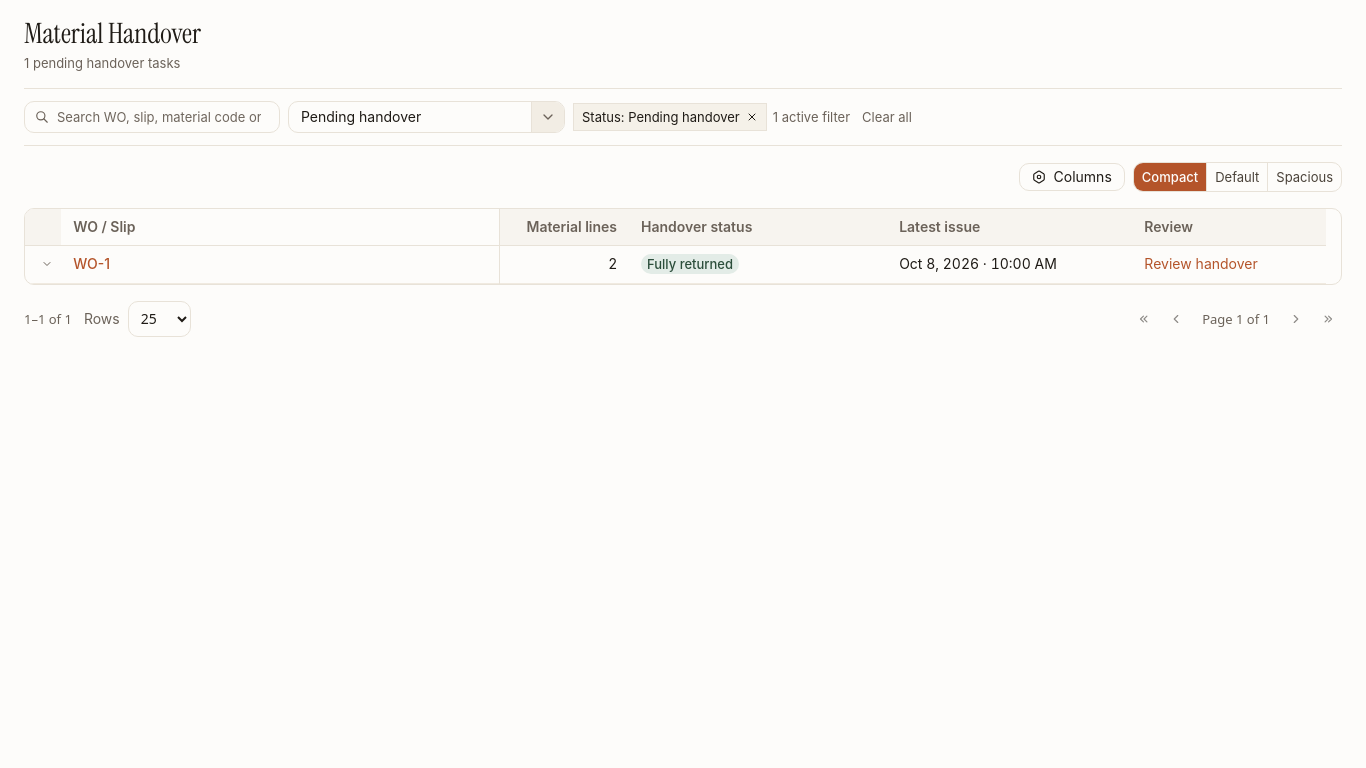
it: fully returned material remains history without claiming physical handover
This screenshot has width=1366, height=768.
Expected: the text "Fully returned" is shown, [641,254,739,274]
Click the text "WO-1" at (92, 264), box [73,255,110,272]
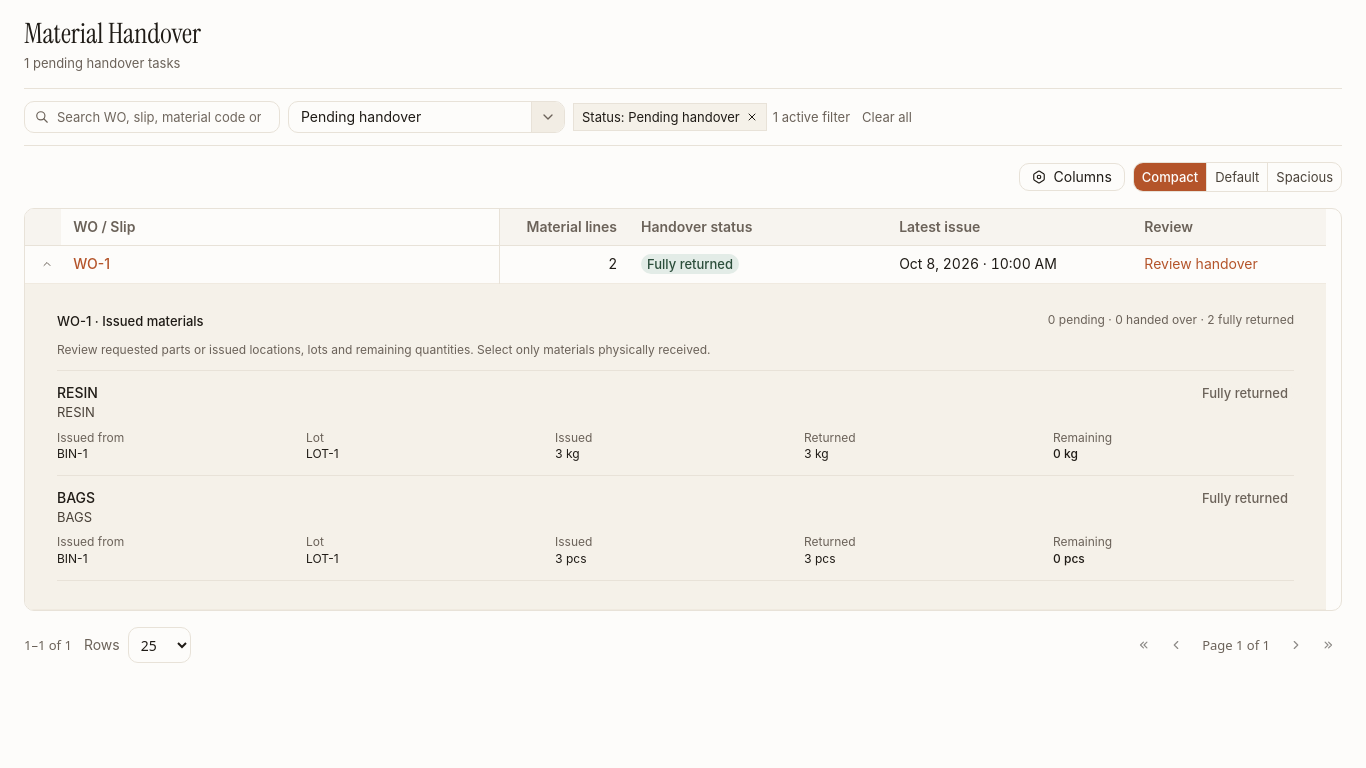
Now the element named "Handover details for WO-1" is shown, box [41,296,1310,597]
